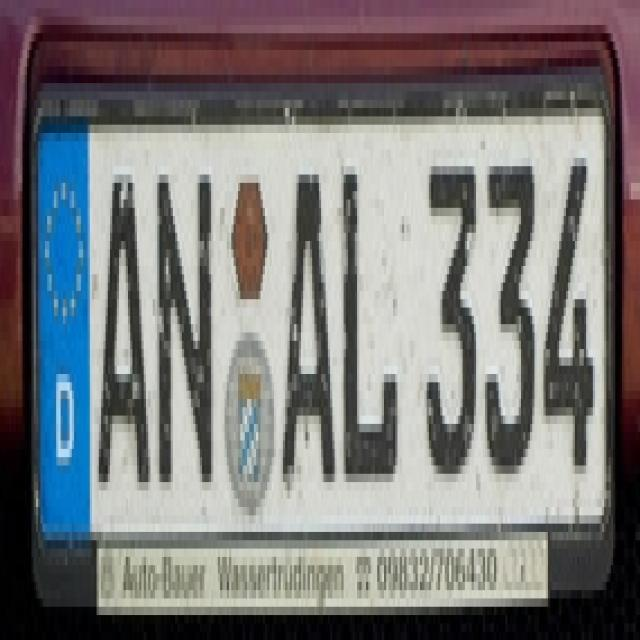Allemagne: (39, 126, 94, 545)
EU: (31, 78, 610, 558)
